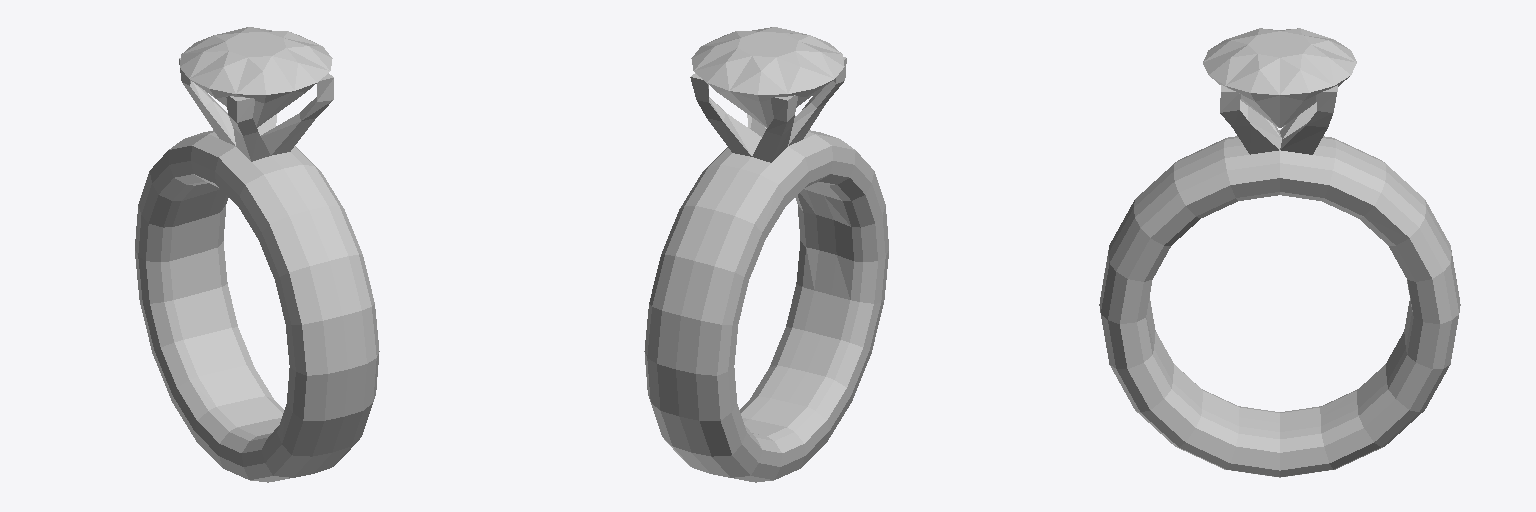
File: RingWithGem.obj
3 renders of one model, left to right at view 1: azimuth 30°, elevation 25°; view 2: azimuth 150°, elevation 25°; view 3: azimuth 270°, elevation 25°, orthographic.
Bounding box in the file's own units: 0.0289 × 0.0874 × 0.0676.